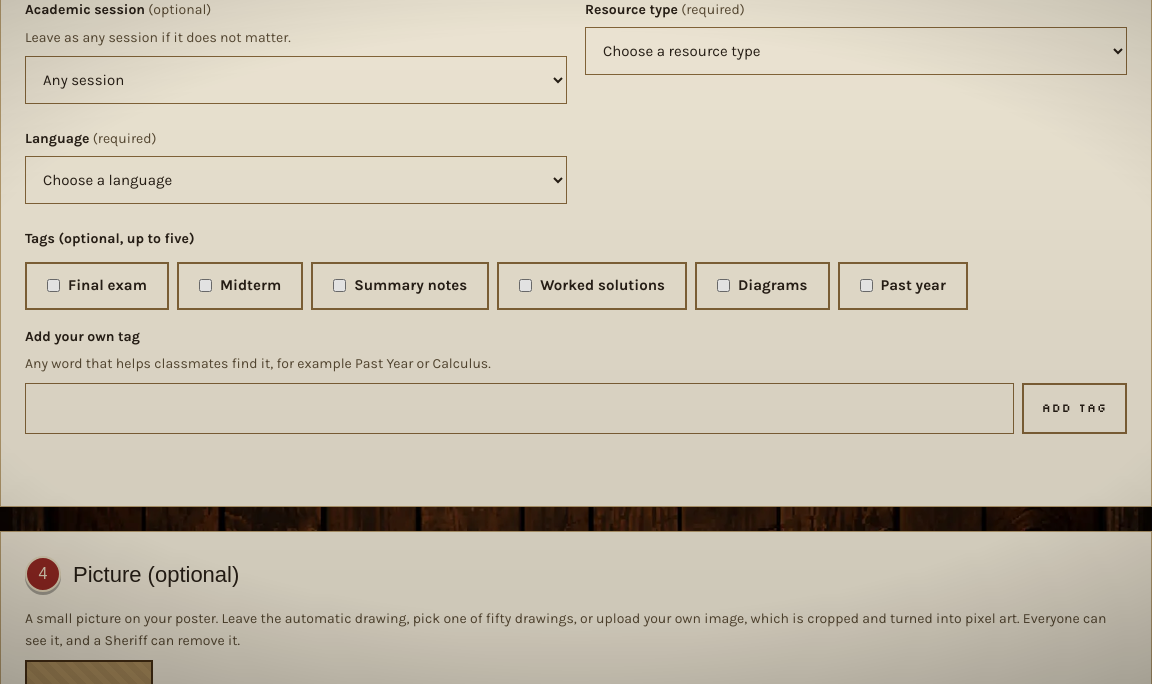
Test case: the intake form › ticks an existing tag typed in any case, without adding a new one
The width and height of the screenshot is (1152, 684).
(page scrolled)
Type "past YEAR" into the field labelled "Add your own tag". click: point(519, 409)
box: [25,383,1014,434]
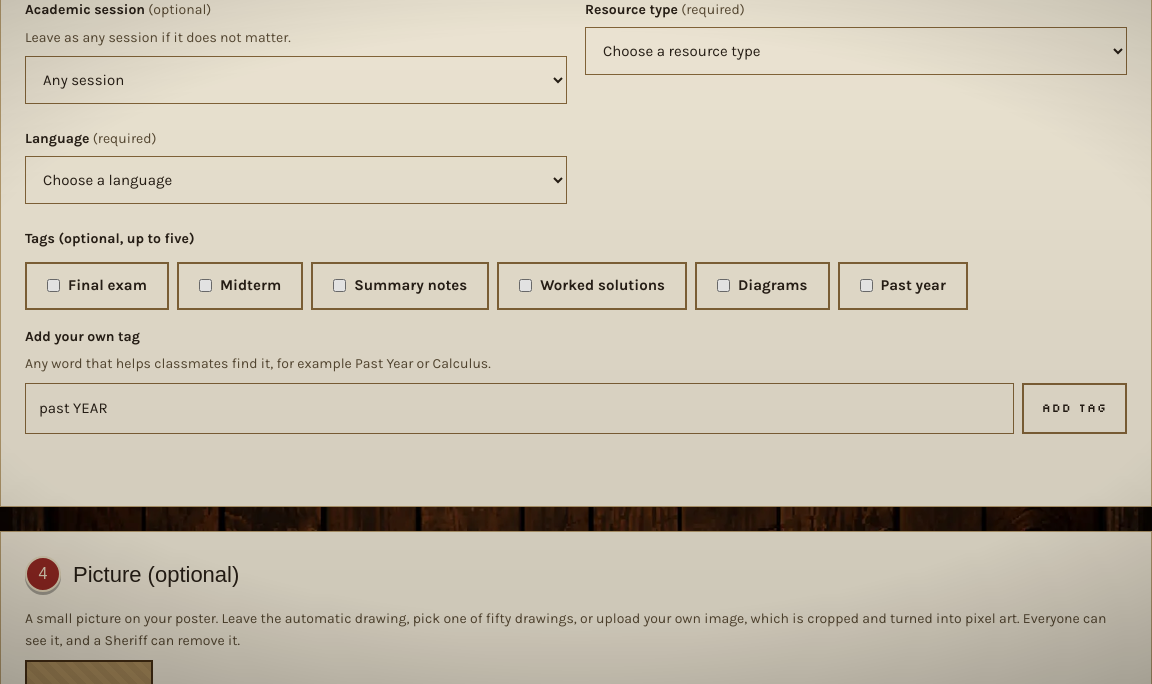
Press Enter in the field labelled "Add your own tag", box [25,383,1014,434]
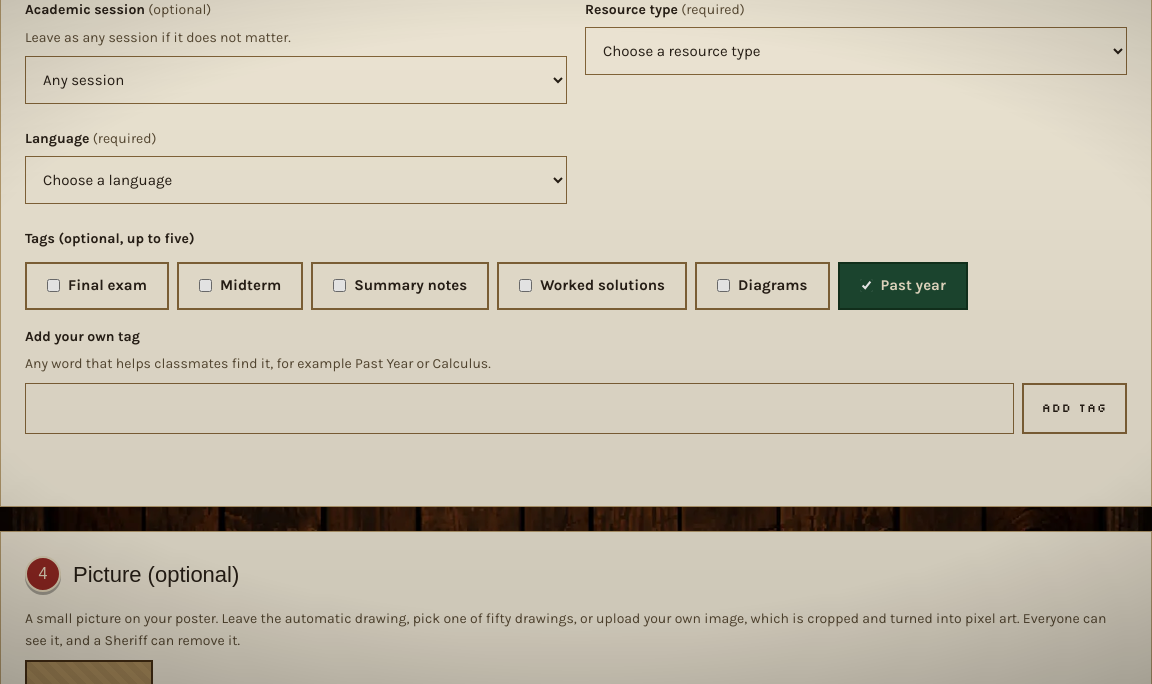
Expected: the number of checkboxes labelled "Past year" is 1, [860,279,872,292]
Expected: the checkbox labelled "Past year" is checked, [860,279,872,292]
